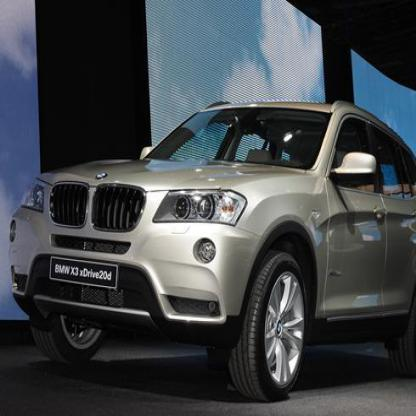Vehicle: (8, 98, 415, 405)
